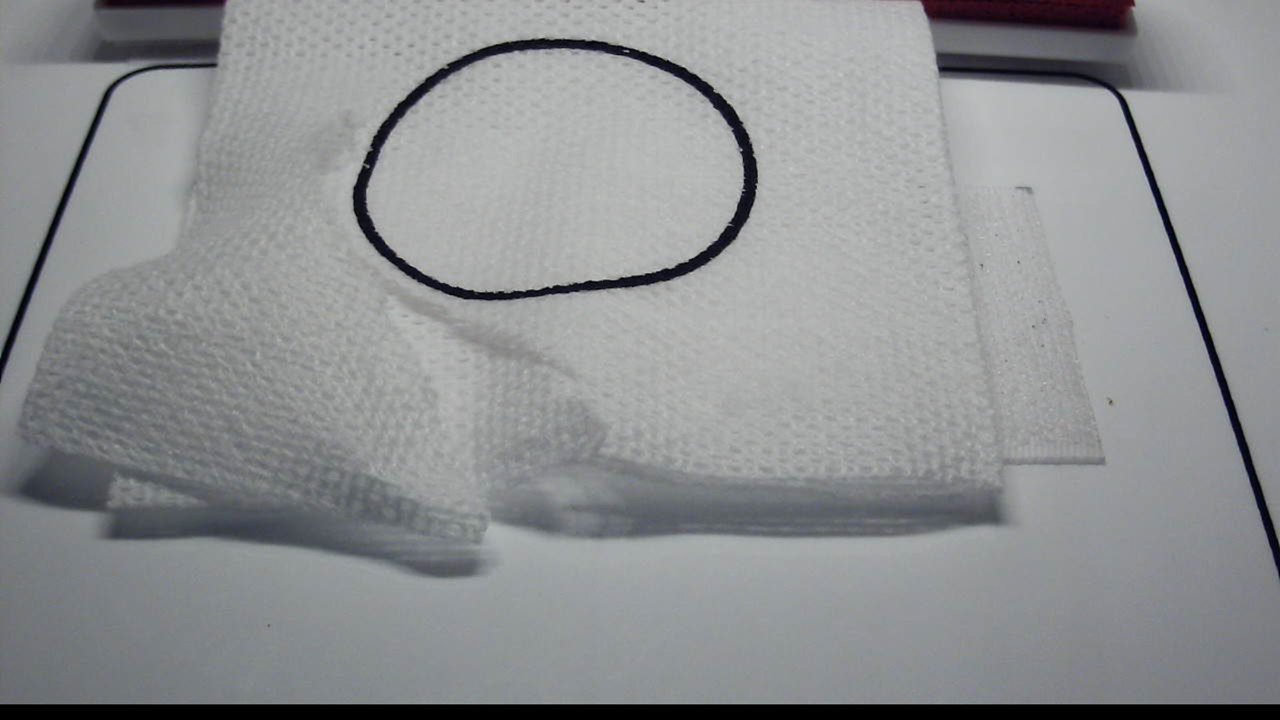Circle: (353, 36, 760, 300)
